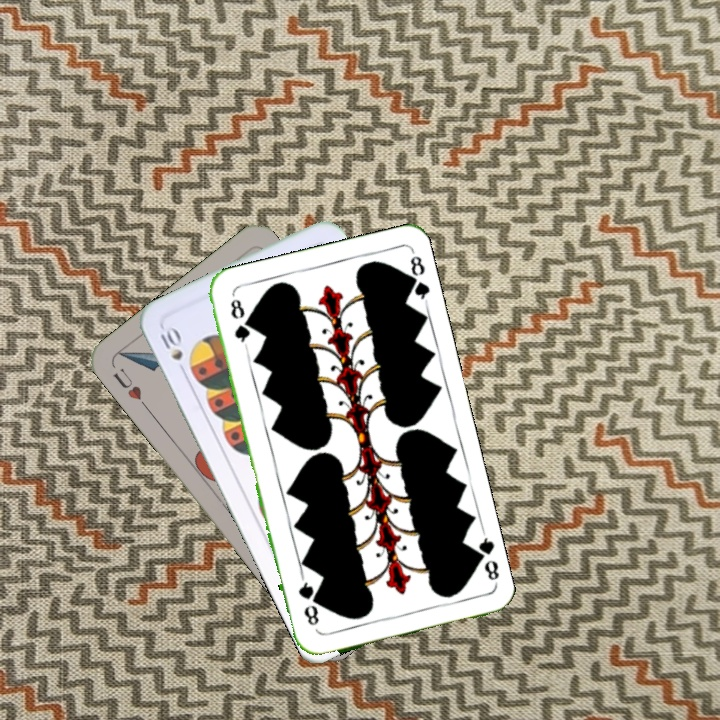G8: (468, 529, 502, 588), (226, 294, 252, 350)
HU: (108, 363, 151, 412)
S10: (156, 322, 190, 379)
